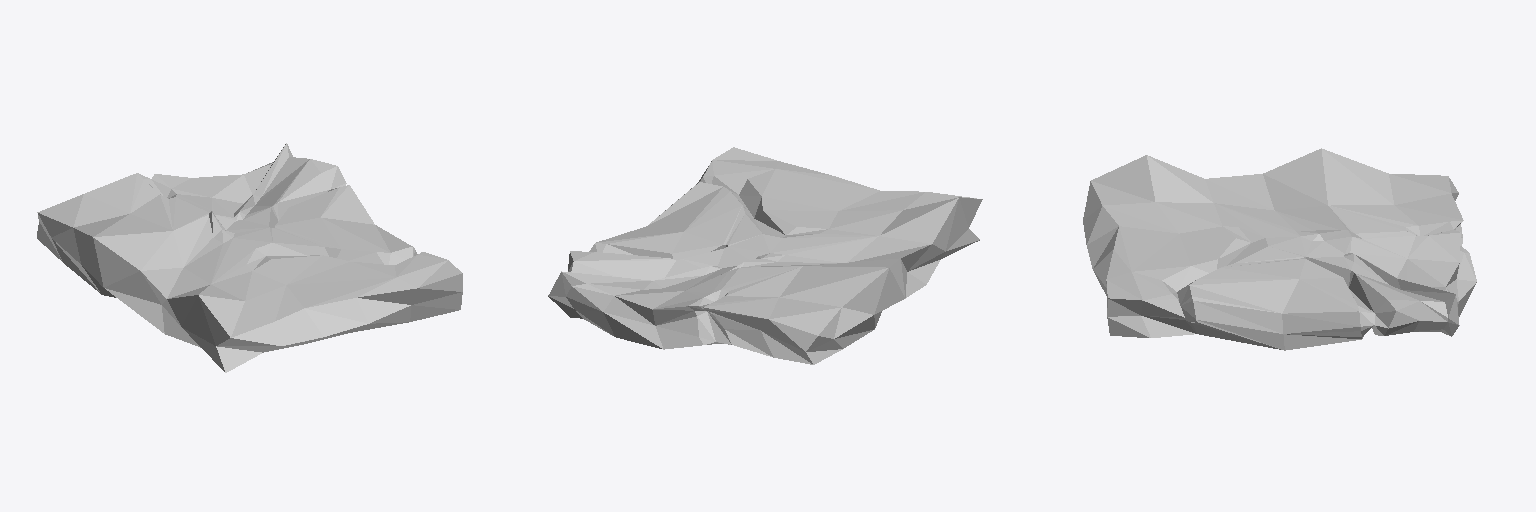
File: DarkFloor01.obj
3 views of the same model, side by side, from view 1: azimuth 30°, elevation 25°; view 2: azimuth 150°, elevation 25°; view 3: azimuth 270°, elevation 25° (orthographic).
Visible parts, largest first — view 1: Box001; view 2: Box001; view 3: Box001.
Boxes of the visible parts, x1=… form: Box001: x1=37, y1=143, x2=462, y2=372; Box001: x1=548, y1=147, x2=982, y2=364; Box001: x1=1083, y1=148, x2=1476, y2=350.
Size of the model in its own units: 30.71 by 8.17 by 36.19.